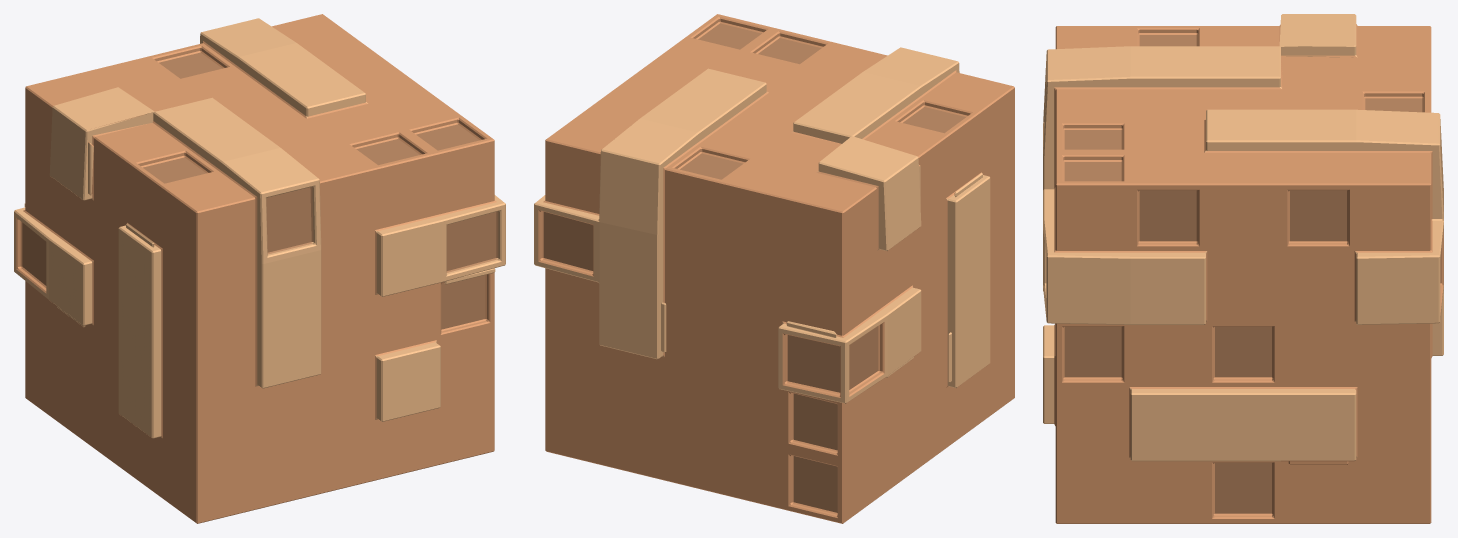
Rendered from Brick.fbx.
3 views of the same model, side by side, from view 1: azimuth 30°, elevation 25°; view 2: azimuth 150°, elevation 25°; view 3: azimuth 270°, elevation 25° (orthographic). The views are drawn at different scales.
Parts seen in each view (by area): view 1: Cube.022; view 2: Cube.022; view 3: Cube.022.
Boxes of the visible parts, x1,y1,x2,y2 form: Cube.022: (14, 14, 505, 523); Cube.022: (534, 14, 1014, 523); Cube.022: (1043, 14, 1443, 523).
Size of the model in its own units: 107 by 103 by 107.
